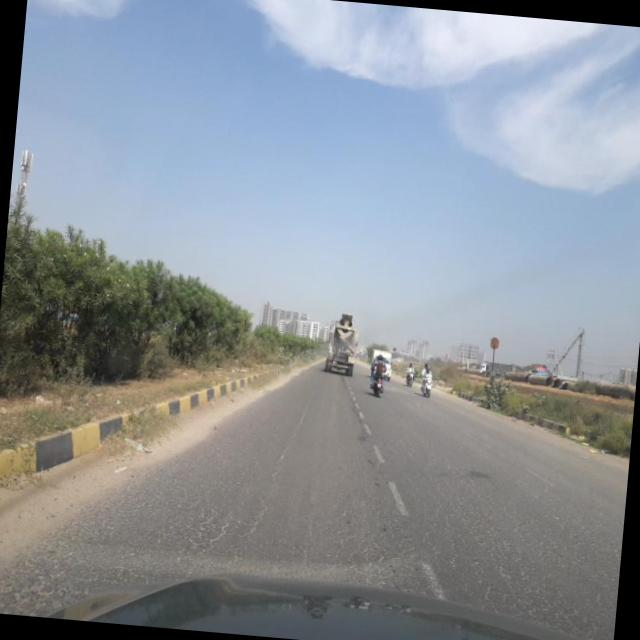crack: (325, 427, 629, 614), (14, 410, 257, 573), (248, 400, 309, 544)
